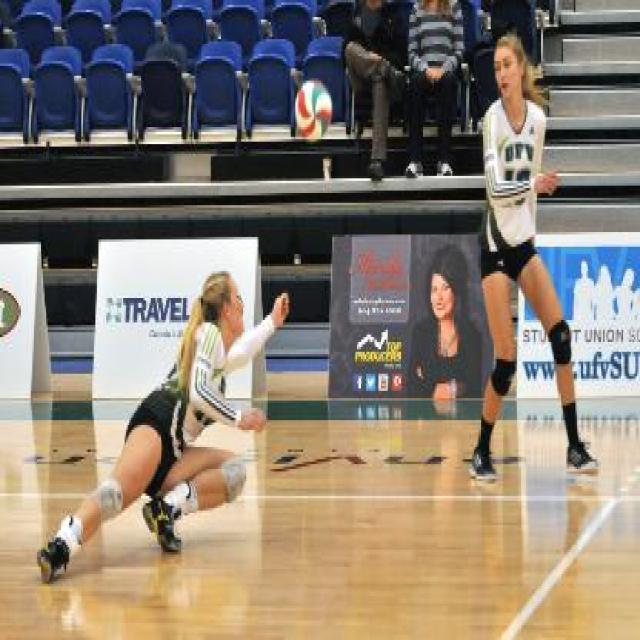volleyball: (295, 80, 332, 142)
